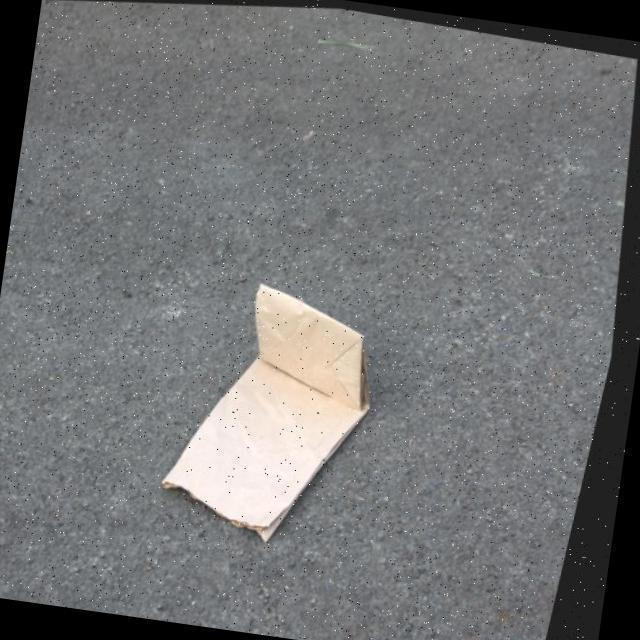Paper_Bag: (130, 249, 423, 576)
